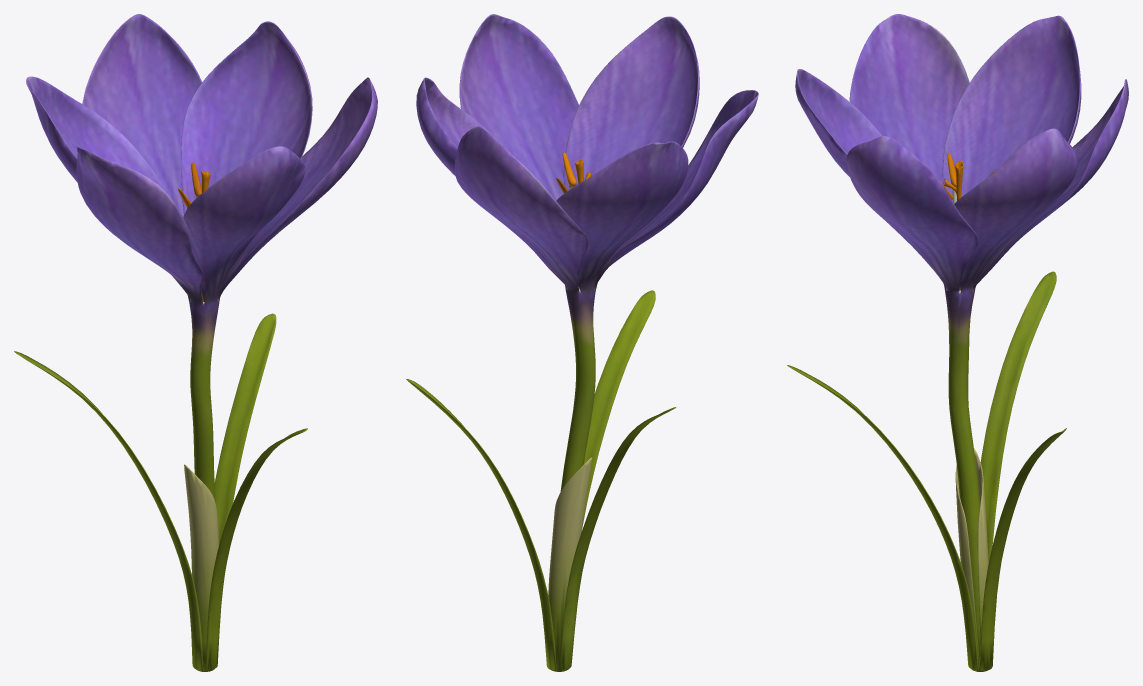
The model's file is crocus.gltf.
The picture shows the model from 3 angles, left to right: view 1: azimuth 30°, elevation 25°; view 2: azimuth 150°, elevation 25°; view 3: azimuth 270°, elevation 25°; orthographic projection.
Visible parts, largest first — view 1: 12974_crocus_flower_v1_l3; view 2: 12974_crocus_flower_v1_l3; view 3: 12974_crocus_flower_v1_l3.
Part boxes in pixels (box(x1,y1,x2,y2)): 12974_crocus_flower_v1_l3: box(14, 14, 377, 671); 12974_crocus_flower_v1_l3: box(406, 14, 758, 671); 12974_crocus_flower_v1_l3: box(787, 14, 1128, 671).
Bounding box in the file's own units: 0.2643 × 0.5322 × 0.2793.
1 material, 1 textured.
